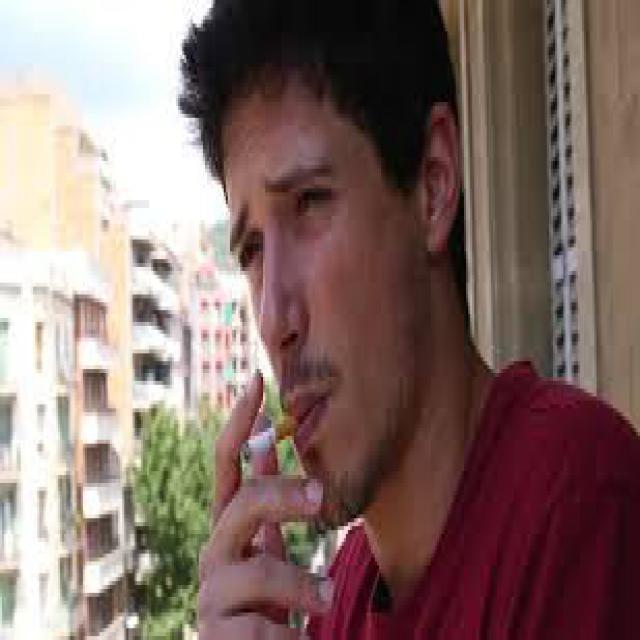smoking: (235, 409, 307, 472)
